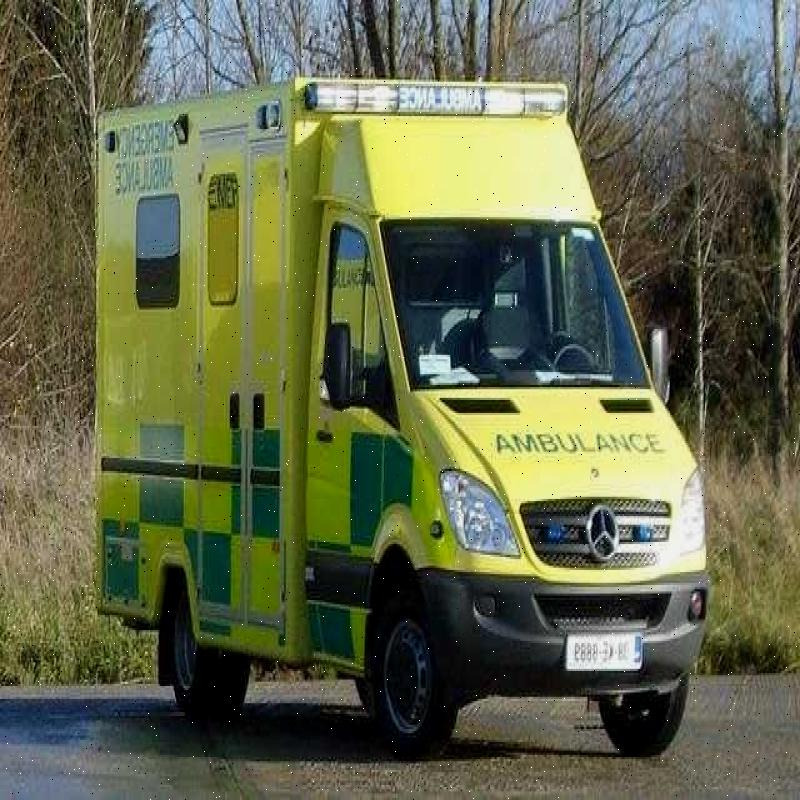AmbulanceSiren: (298, 49, 578, 130)
